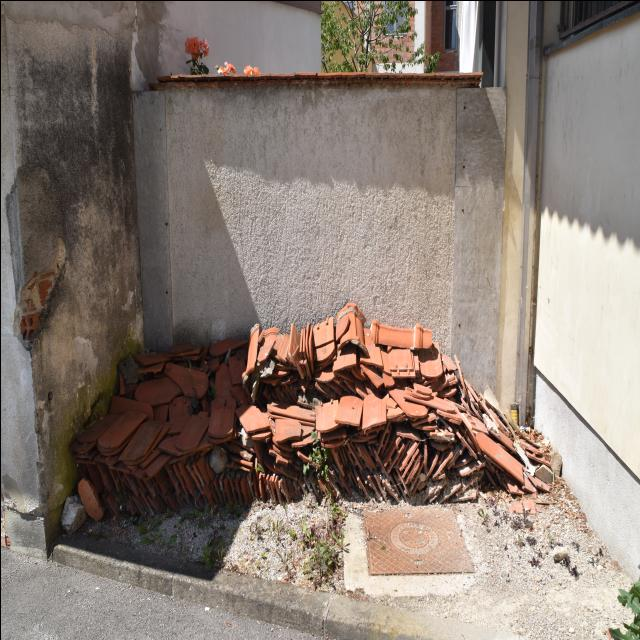entulho: (225, 298, 495, 500), (320, 309, 564, 505), (59, 333, 250, 526)
